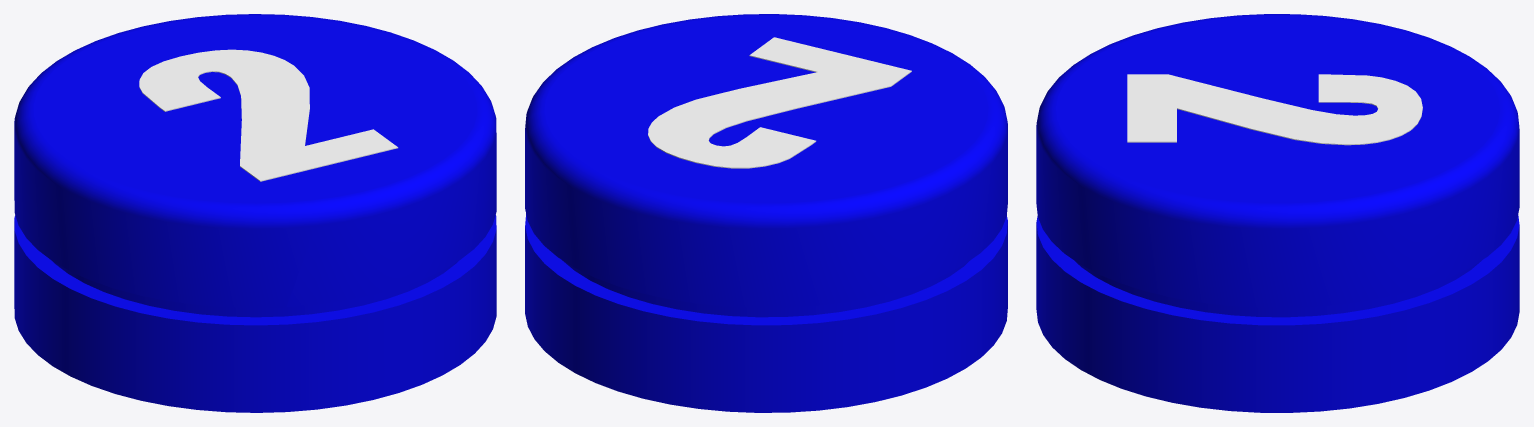
The model's file is nubot_frame2_blue.dae.
3 renders of one model, left to right at view 1: azimuth 30°, elevation 25°; view 2: azimuth 150°, elevation 25°; view 3: azimuth 270°, elevation 25°, orthographic.
Visible parts, largest first — view 1: SketchUp (×3), instance_0; view 2: SketchUp (×3), instance_0; view 3: SketchUp (×3), instance_0.
Boxes of the visible parts, box(x1,y1,x2,y2) form: SketchUp (×3): box(14, 14, 496, 412); instance_0: box(139, 49, 398, 181); SketchUp (×3): box(525, 14, 1007, 412); instance_0: box(648, 37, 911, 168); SketchUp (×3): box(1036, 14, 1519, 412); instance_0: box(1127, 74, 1422, 145).
Bounding box in the file's own units: 19.66 × 19.68 × 9.09.
